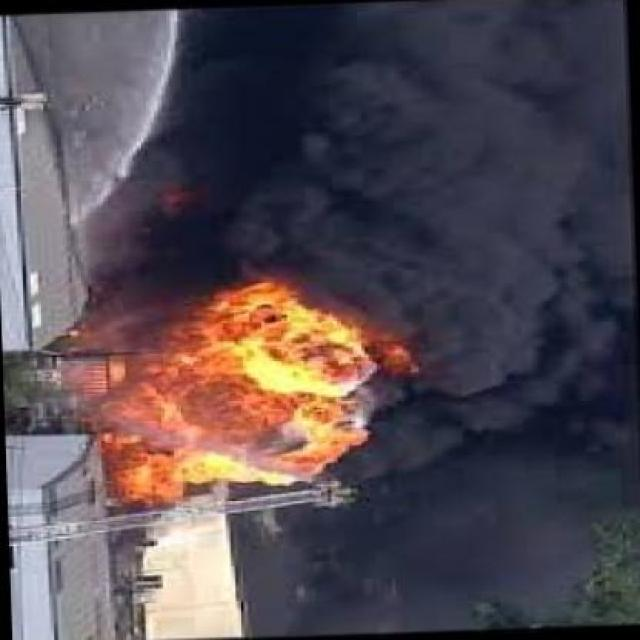Fire: (88, 284, 424, 512)
Smoke: (178, 22, 640, 296), (408, 20, 640, 527), (238, 497, 631, 640)
